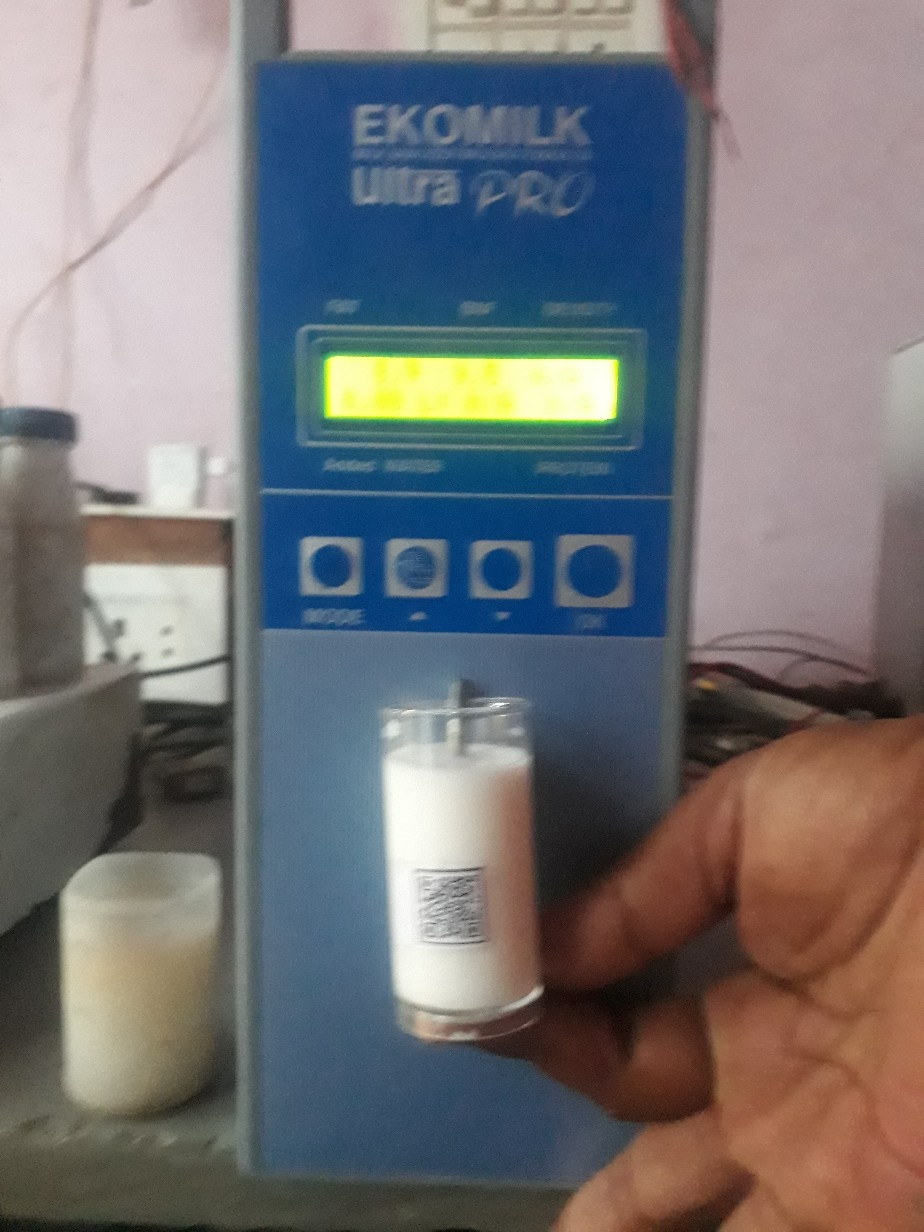lcd: (314, 342, 635, 444)
qr: (414, 868, 512, 949)
